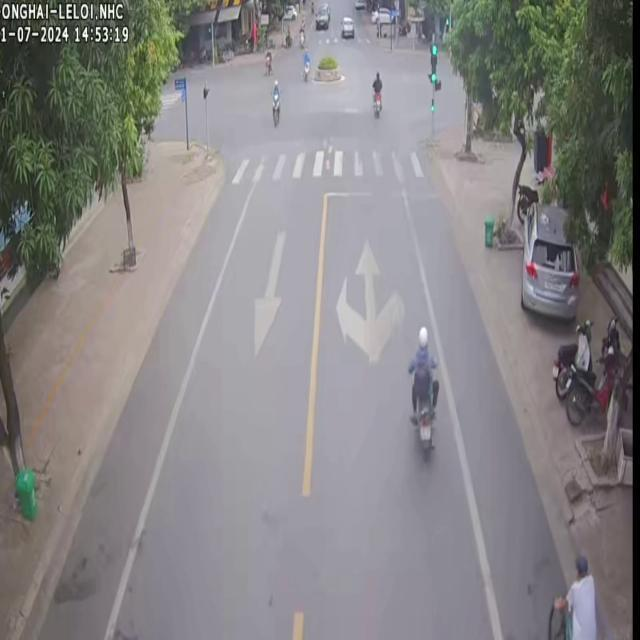car: (519, 194, 578, 318)
green_light: (427, 40, 435, 85)
motobike: (563, 316, 622, 422), (407, 325, 436, 455), (550, 318, 590, 398), (269, 78, 279, 125), (372, 89, 379, 116)
stop_line: (323, 189, 436, 196)
